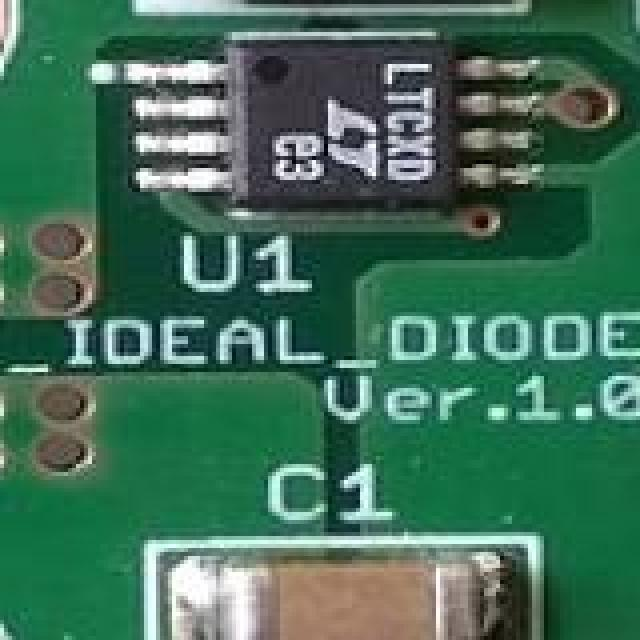IC: (204, 52, 522, 218)
capacitor: (196, 544, 484, 640)
